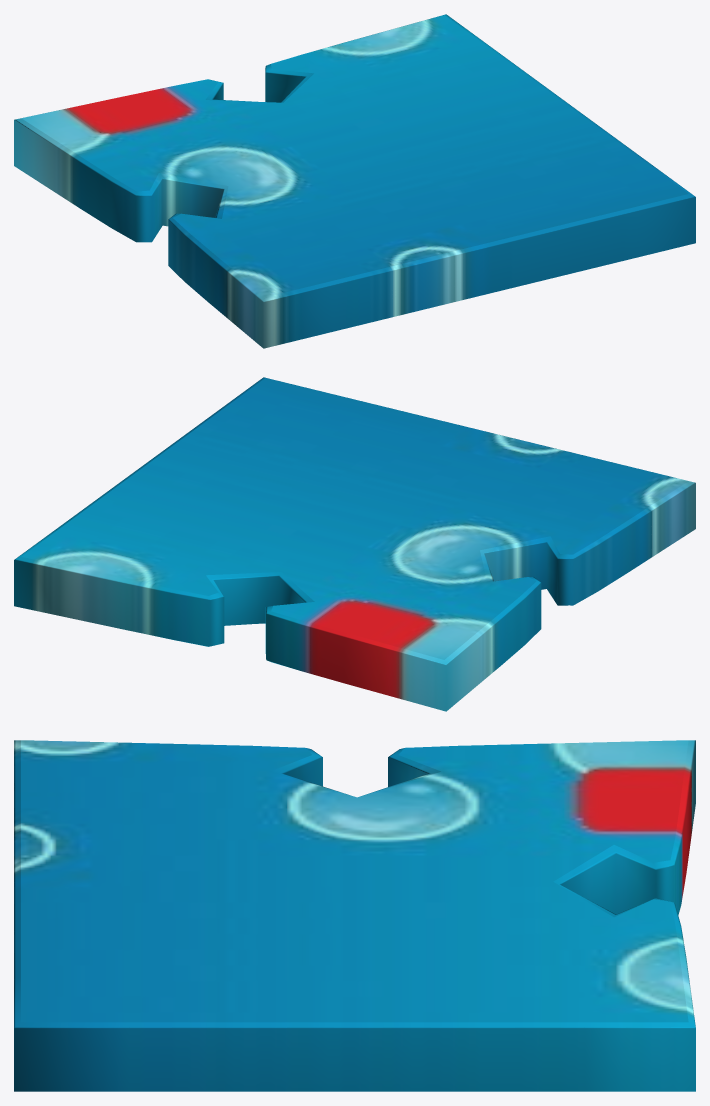
The picture shows the model from 3 angles, top to bottom: view 1: azimuth 30°, elevation 25°; view 2: azimuth 150°, elevation 25°; view 3: azimuth 270°, elevation 25°; orthographic projection. The views are drawn at different scales.
Visible parts, largest first — view 1: jigsawPuzzle4x3_Grp_piece_4x3_Grp_Geo; view 2: jigsawPuzzle4x3_Grp_piece_4x3_Grp_Geo; view 3: jigsawPuzzle4x3_Grp_piece_4x3_Grp_Geo.
Part boxes in pixels (x1=…): jigsawPuzzle4x3_Grp_piece_4x3_Grp_Geo: x1=14, y1=14, x2=695, y2=348; jigsawPuzzle4x3_Grp_piece_4x3_Grp_Geo: x1=14, y1=377, x2=695, y2=711; jigsawPuzzle4x3_Grp_piece_4x3_Grp_Geo: x1=14, y1=740, x2=695, y2=1091.
Size of the model in its own units: 0.9787 by 0.11 by 0.9787.
Materials: 1 (1 with a texture image).
